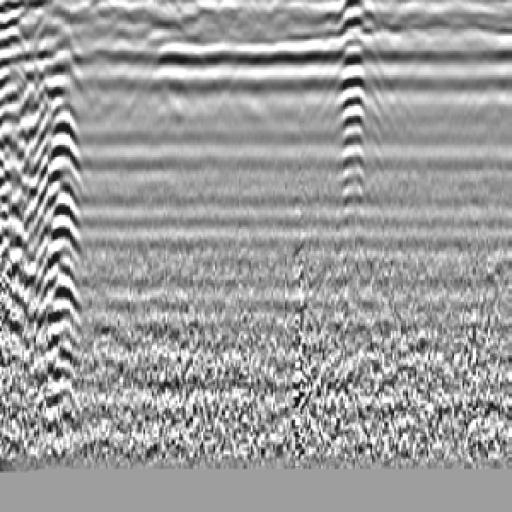non-metallic: (25, 25, 106, 446), (327, 1, 390, 195)
